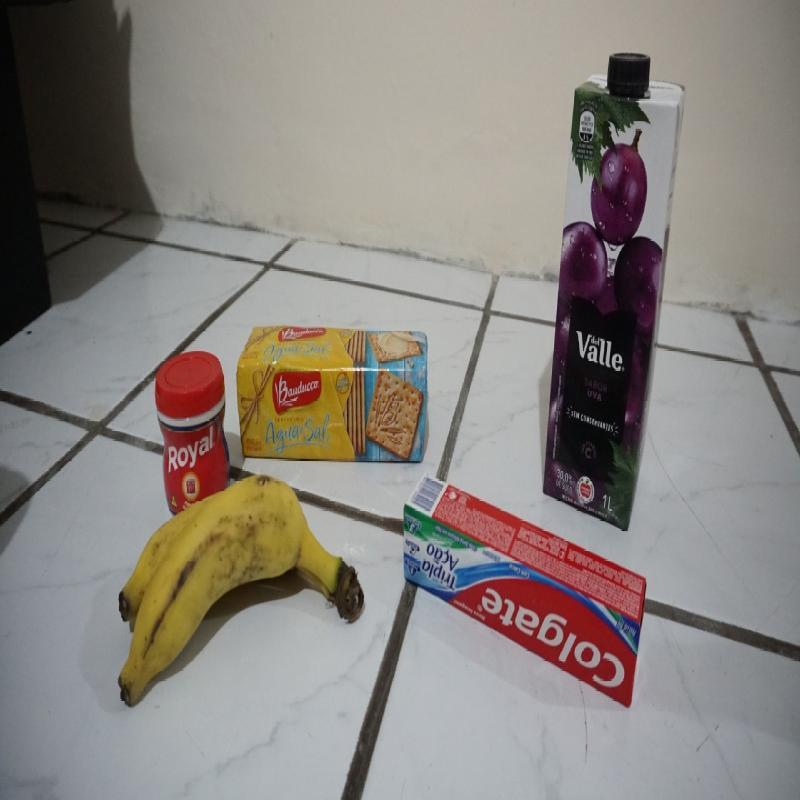Banana: (104, 481, 374, 699)
Cracker: (234, 324, 432, 470)
Toothpaste: (402, 477, 648, 717)
Yeast: (154, 355, 231, 496)
